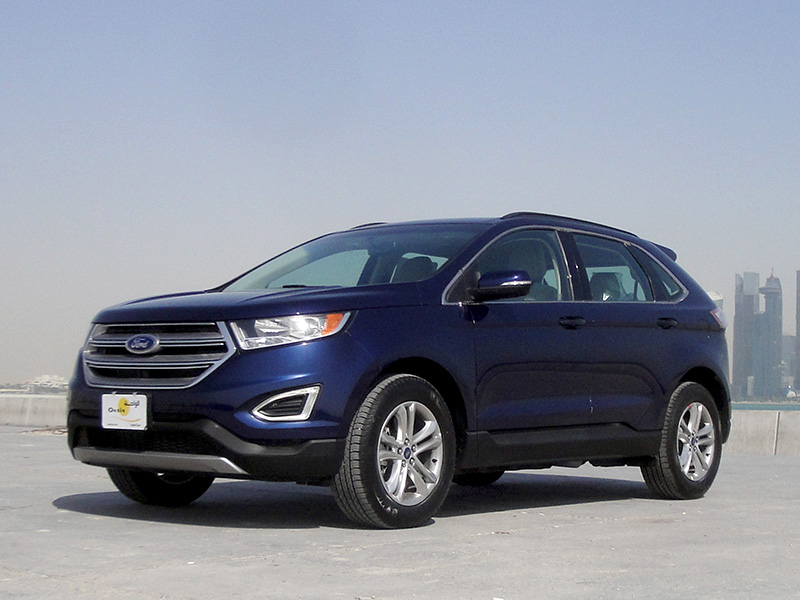other: (72, 205, 734, 530)
